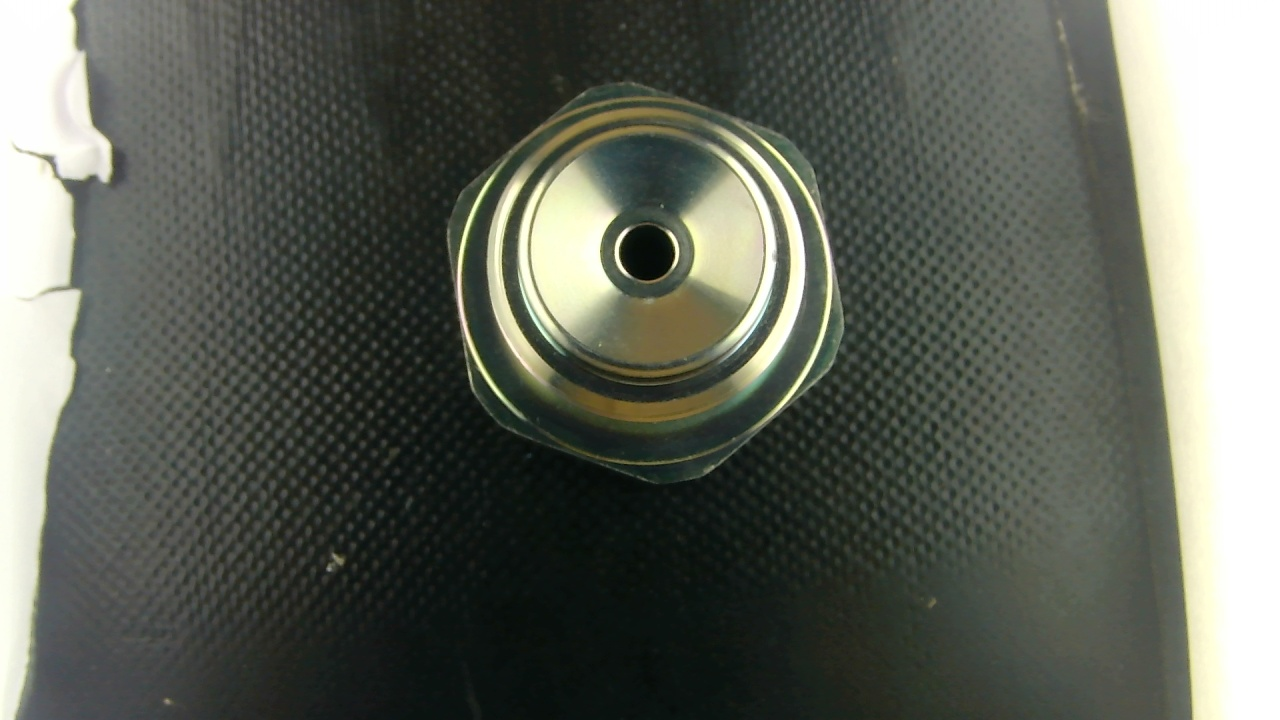Capnut_Okay: (448, 83, 842, 483)
